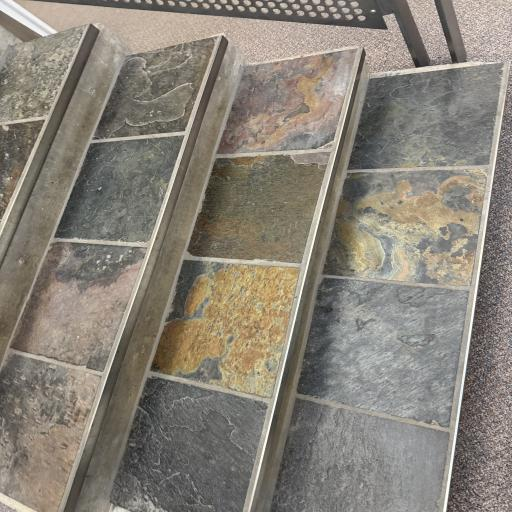Stairs: (0, 25, 508, 512)
